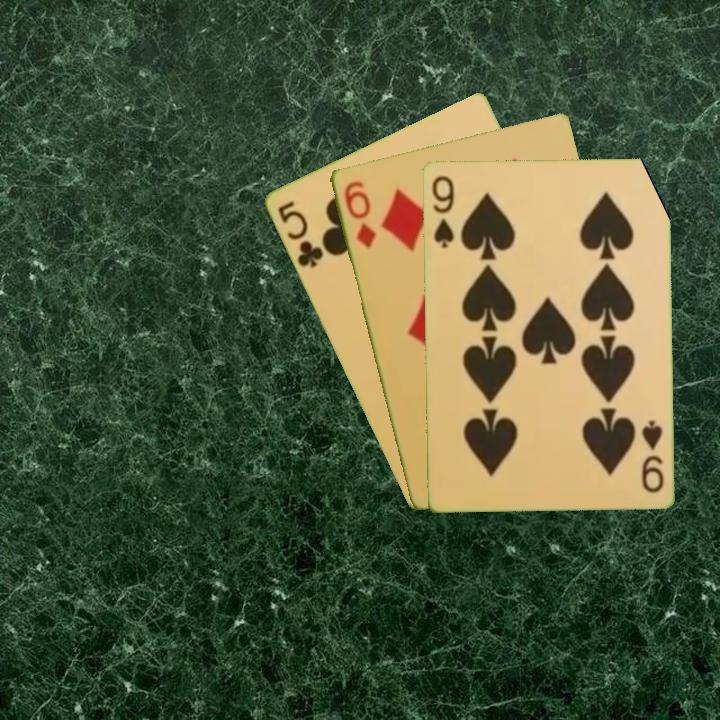5c: (273, 198, 326, 271)
6d: (340, 177, 378, 251)
9s: (428, 171, 457, 251), (637, 416, 666, 495)
